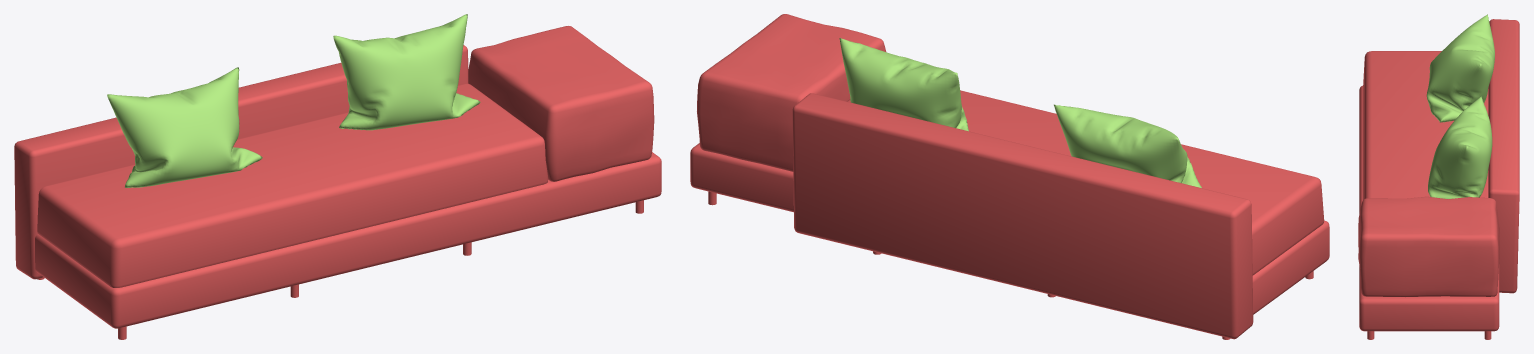
File: Sofa.fbx
3 renders of one model, left to right at view 1: azimuth 30°, elevation 25°; view 2: azimuth 150°, elevation 25°; view 3: azimuth 270°, elevation 25°, orthographic. The views are drawn at different scales.
Visible parts, largest first — view 1: Sofa, Pillows; view 2: Sofa, Pillows; view 3: Sofa, Pillows.
Boxes of the visible parts, x1,y1,x2,y2 form: Sofa: (14,26,661,339); Pillows: (107,14,480,187); Sofa: (690,14,1329,339); Pillows: (839,38,1201,187); Sofa: (1358,19,1519,339); Pillows: (1426,14,1494,198).
Size of the model in its own units: 251 by 79.92 by 78.56.
